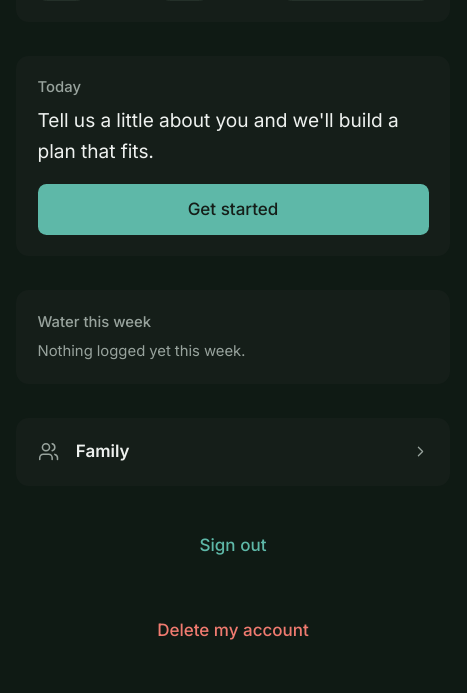
Test case: signing out › stays put when the server could not end the session
This screenshot has width=467, height=693.
(page scrolled)
Click the button "Sign out" at (233, 545), box [16,520,450,571]
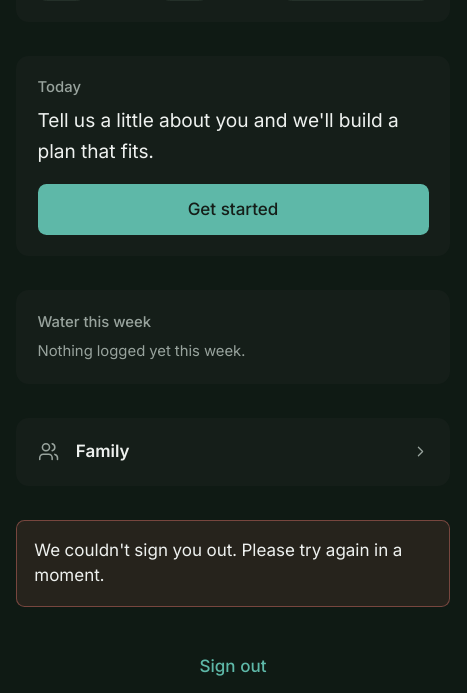
Expected: the message "We couldn't sign you out. Please try again in a moment." is shown, [16,520,450,607]
